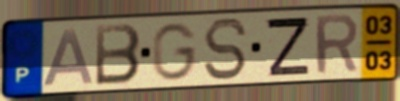A: (40, 26, 97, 88)
B: (93, 22, 144, 88)
G: (151, 21, 200, 82)
R: (312, 11, 361, 77)
S: (201, 16, 250, 83)
Z: (263, 15, 312, 78)
